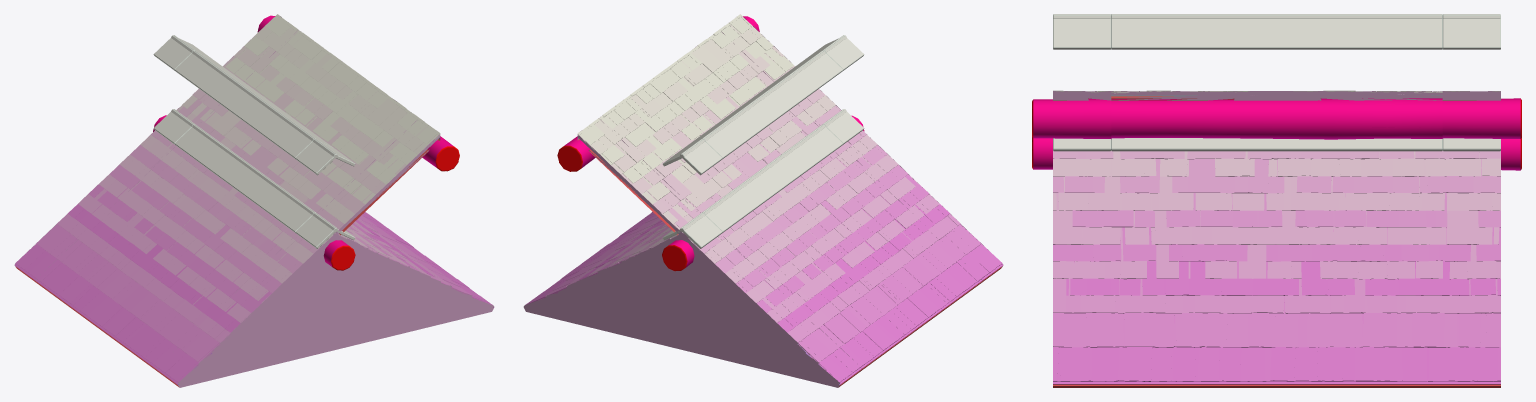
File: roof.glb
The picture shows the model from 3 angles, left to right: view 1: azimuth 30°, elevation 25°; view 2: azimuth 150°, elevation 25°; view 3: azimuth 270°, elevation 25°; orthographic projection. The views are drawn at different scales.
Parts seen in each view (by area): view 1: roof_peak_eave_a_pz, roof_slope_eave_b, roof_slope_eave_a, roof_peak_eave_b_pz, roof_slope_a, roof_peak_a_pz, roof_peak_a, roof_slope_b, roof_peak_eave_a, roof_peak_eave_b, ridge_cap, roof_slope_eave_a_pz (+15 smaller); view 2: roof_peak_eave_a_nz, roof_slope_eave_b, roof_slope_eave_a, roof_slope_a, roof_peak_a_nz, roof_peak_a, roof_peak_eave_a, roof_slope_b, roof_peak_eave_b, ridge_cap, roof_slope_a_nz, roof_peak_b (+14 smaller); view 3: roof_peak_eave_a, roof_peak_eave_b, roof_peak_a, roof_peak_b, roof_slope_b, ridge_cap, roof_peak_eave_a_pz, roof_peak_eave_b_nz, roof_peak_eave_a_nz, roof_slope_a, roof_peak_eave_b_pz, roof_slope_b_pz (+11 smaller).
Boxes of the visible parts, x1=… form: roof_peak_eave_a_pz: x1=157, y1=232, x2=494, y2=387; roof_slope_eave_b: x1=36, y1=41, x2=403, y2=368; roof_slope_eave_a: x1=36, y1=30, x2=416, y2=371; roof_peak_eave_b_pz: x1=157, y1=232, x2=493, y2=385; roof_slope_a: x1=99, y1=34, x2=416, y2=301; roof_peak_a_pz: x1=231, y1=213, x2=440, y2=338; roof_peak_a: x1=89, y1=124, x2=419, y2=295; roof_slope_b: x1=90, y1=30, x2=418, y2=316; roof_peak_eave_a: x1=36, y1=159, x2=471, y2=369; roof_peak_eave_b: x1=36, y1=159, x2=469, y2=367; ridge_cap: x1=175, y1=50, x2=333, y2=159; roof_slope_eave_a_pz: x1=156, y1=120, x2=439, y2=387; roof_peak_eave_a_nz: x1=523, y1=234, x2=855, y2=387; roof_slope_eave_b: x1=614, y1=43, x2=981, y2=371; roof_slope_eave_a: x1=600, y1=32, x2=981, y2=370; roof_slope_a: x1=602, y1=32, x2=907, y2=309; roof_peak_a_nz: x1=576, y1=213, x2=808, y2=338; roof_peak_a: x1=619, y1=124, x2=898, y2=316; roof_peak_eave_a: x1=546, y1=161, x2=981, y2=369; roof_slope_b: x1=599, y1=29, x2=928, y2=315; roof_peak_eave_b: x1=563, y1=155, x2=981, y2=369; ridge_cap: x1=684, y1=50, x2=842, y2=159; roof_slope_a_nz: x1=558, y1=118, x2=786, y2=331; roof_peak_b: x1=599, y1=155, x2=922, y2=312; roof_peak_eave_a: x1=1111, y1=151, x2=1442, y2=387; roof_peak_eave_b: x1=1111, y1=151, x2=1442, y2=387; roof_peak_a: x1=1111, y1=138, x2=1442, y2=295; roof_peak_b: x1=1111, y1=151, x2=1442, y2=295; roof_slope_b: x1=1111, y1=91, x2=1442, y2=138; ridge_cap: x1=1111, y1=14, x2=1442, y2=49; roof_peak_eave_a_pz: x1=1053, y1=159, x2=1111, y2=387; roof_peak_eave_b_nz: x1=1442, y1=176, x2=1500, y2=387; roof_peak_eave_a_nz: x1=1442, y1=152, x2=1500, y2=387; roof_slope_a: x1=1111, y1=90, x2=1442, y2=139; roof_peak_eave_b_pz: x1=1053, y1=159, x2=1111, y2=387; roof_slope_b_pz: x1=1032, y1=90, x2=1111, y2=133.
Bounding box in the file's own units: 3.03 × 1.79 × 2.95.
